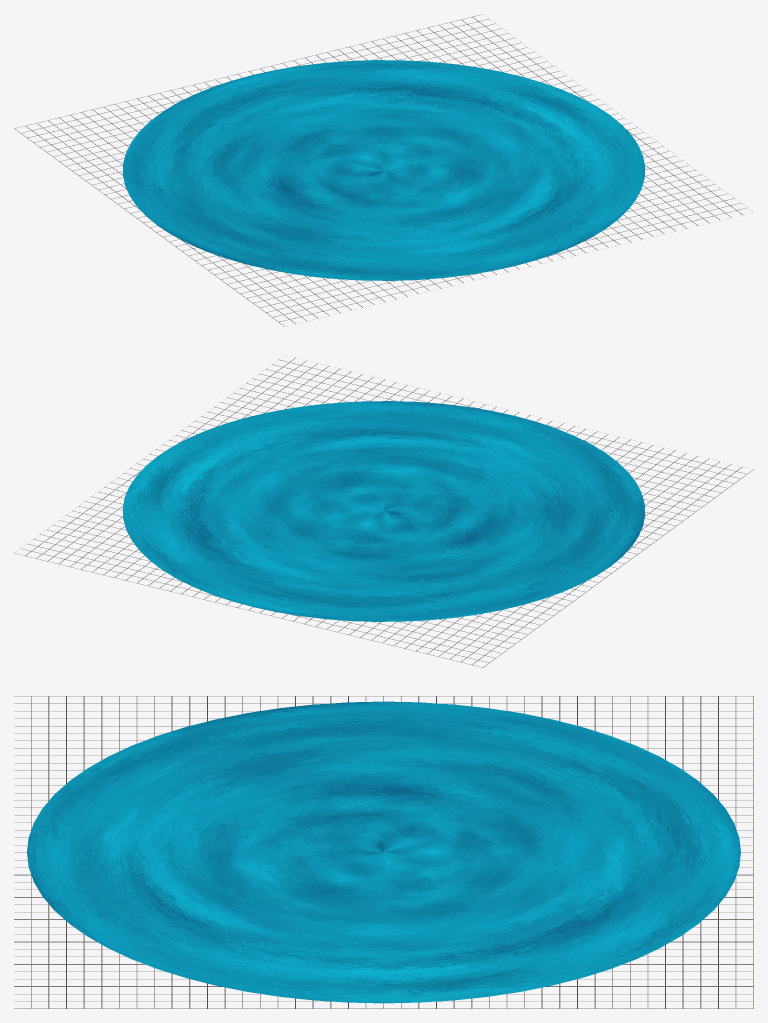
File: Water_Circle_3_Highpoly.glb
The picture shows the model from 3 angles, top to bottom: view 1: azimuth 30°, elevation 25°; view 2: azimuth 150°, elevation 25°; view 3: azimuth 270°, elevation 25°; orthographic projection. The views are drawn at different scales.
Parts seen in each view (by area): view 1: Water_Circle_3_Highpoly, Floor; view 2: Water_Circle_3_Highpoly, Floor; view 3: Water_Circle_3_Highpoly, Floor.
Boxes of the visible parts, bbox=[...] form: Water_Circle_3_Highpoly: bbox=[122, 60, 645, 280]; Floor: bbox=[14, 14, 747, 326]; Water_Circle_3_Highpoly: bbox=[122, 401, 645, 621]; Floor: bbox=[14, 355, 753, 667]; Water_Circle_3_Highpoly: bbox=[27, 701, 740, 1003]; Floor: bbox=[14, 696, 753, 1008].
Size of the model in its own units: 4200 by 0.000852 by 4200.
Materials: 2 (2 with a texture image).
